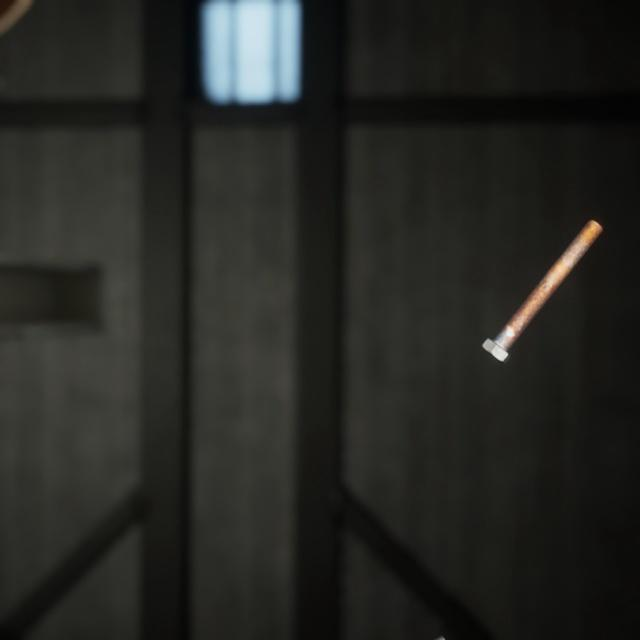bolt: (477, 198, 607, 351), (386, 608, 451, 640)
